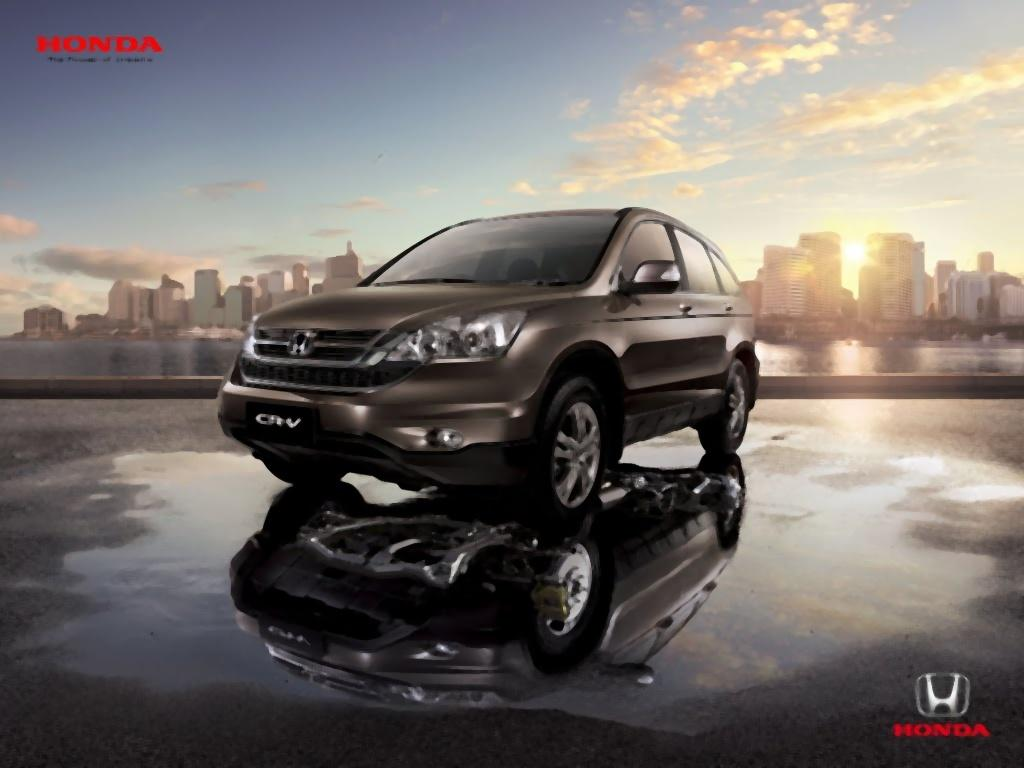Car hood: (256, 280, 582, 340)
Fender - -F-L-: (512, 253, 640, 452)
Front bumper: (215, 351, 560, 478)
Headlight - -L-: (383, 309, 529, 364)
Headlight - -R-: (237, 311, 261, 362)
Passenger-s door - -F-L-: (591, 204, 693, 447)
Passenger-s door - -R-L-: (661, 210, 741, 432)
Side bumper - -L-: (617, 354, 733, 470)
Side mirror - -L-: (623, 255, 681, 302)
